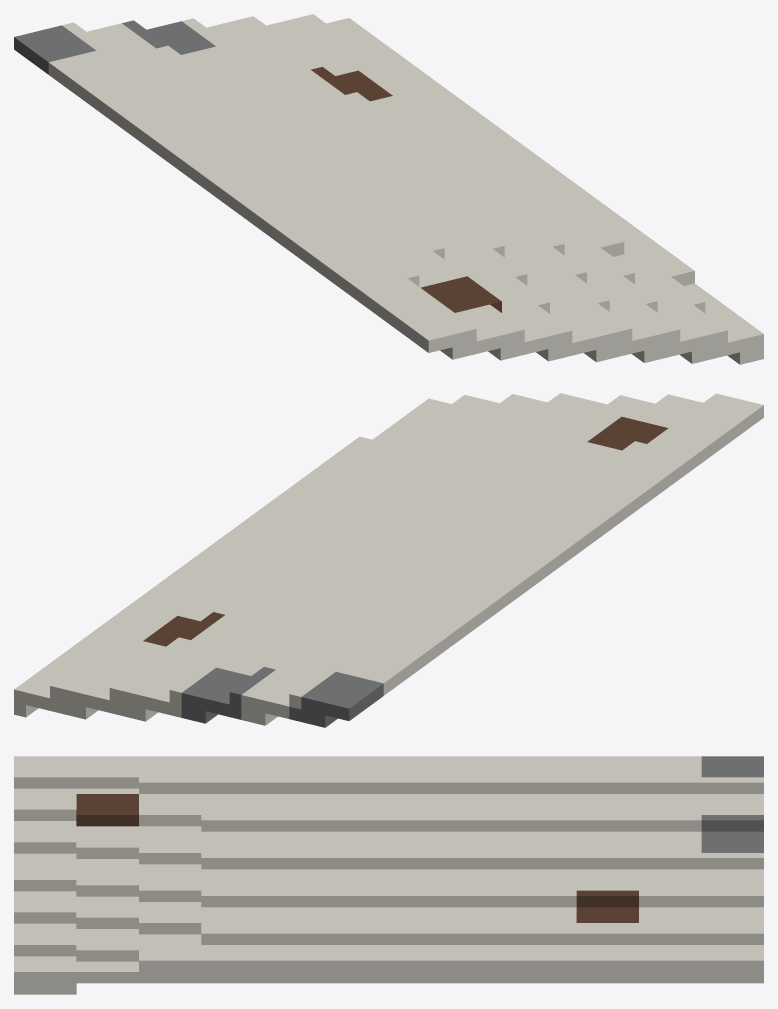
File: abandoned_ambulance_bonnet.glb
3 renders of one model, top to bottom at view 1: azimuth 30°, elevation 25°; view 2: azimuth 150°, elevation 25°; view 3: azimuth 270°, elevation 25°, orthographic. The views are drawn at different scales.
Parts seen in each view (by area): view 1: body:compound; view 2: body:compound; view 3: body:compound.
Part boxes in pixels (left/top/right/bottom): body:compound: left=14, top=14, right=763, bottom=364; body:compound: left=14, top=393, right=763, bottom=727; body:compound: left=14, top=756, right=763, bottom=994.
Bounding box in the file's own units: 0.875 × 0.25 × 1.88.
